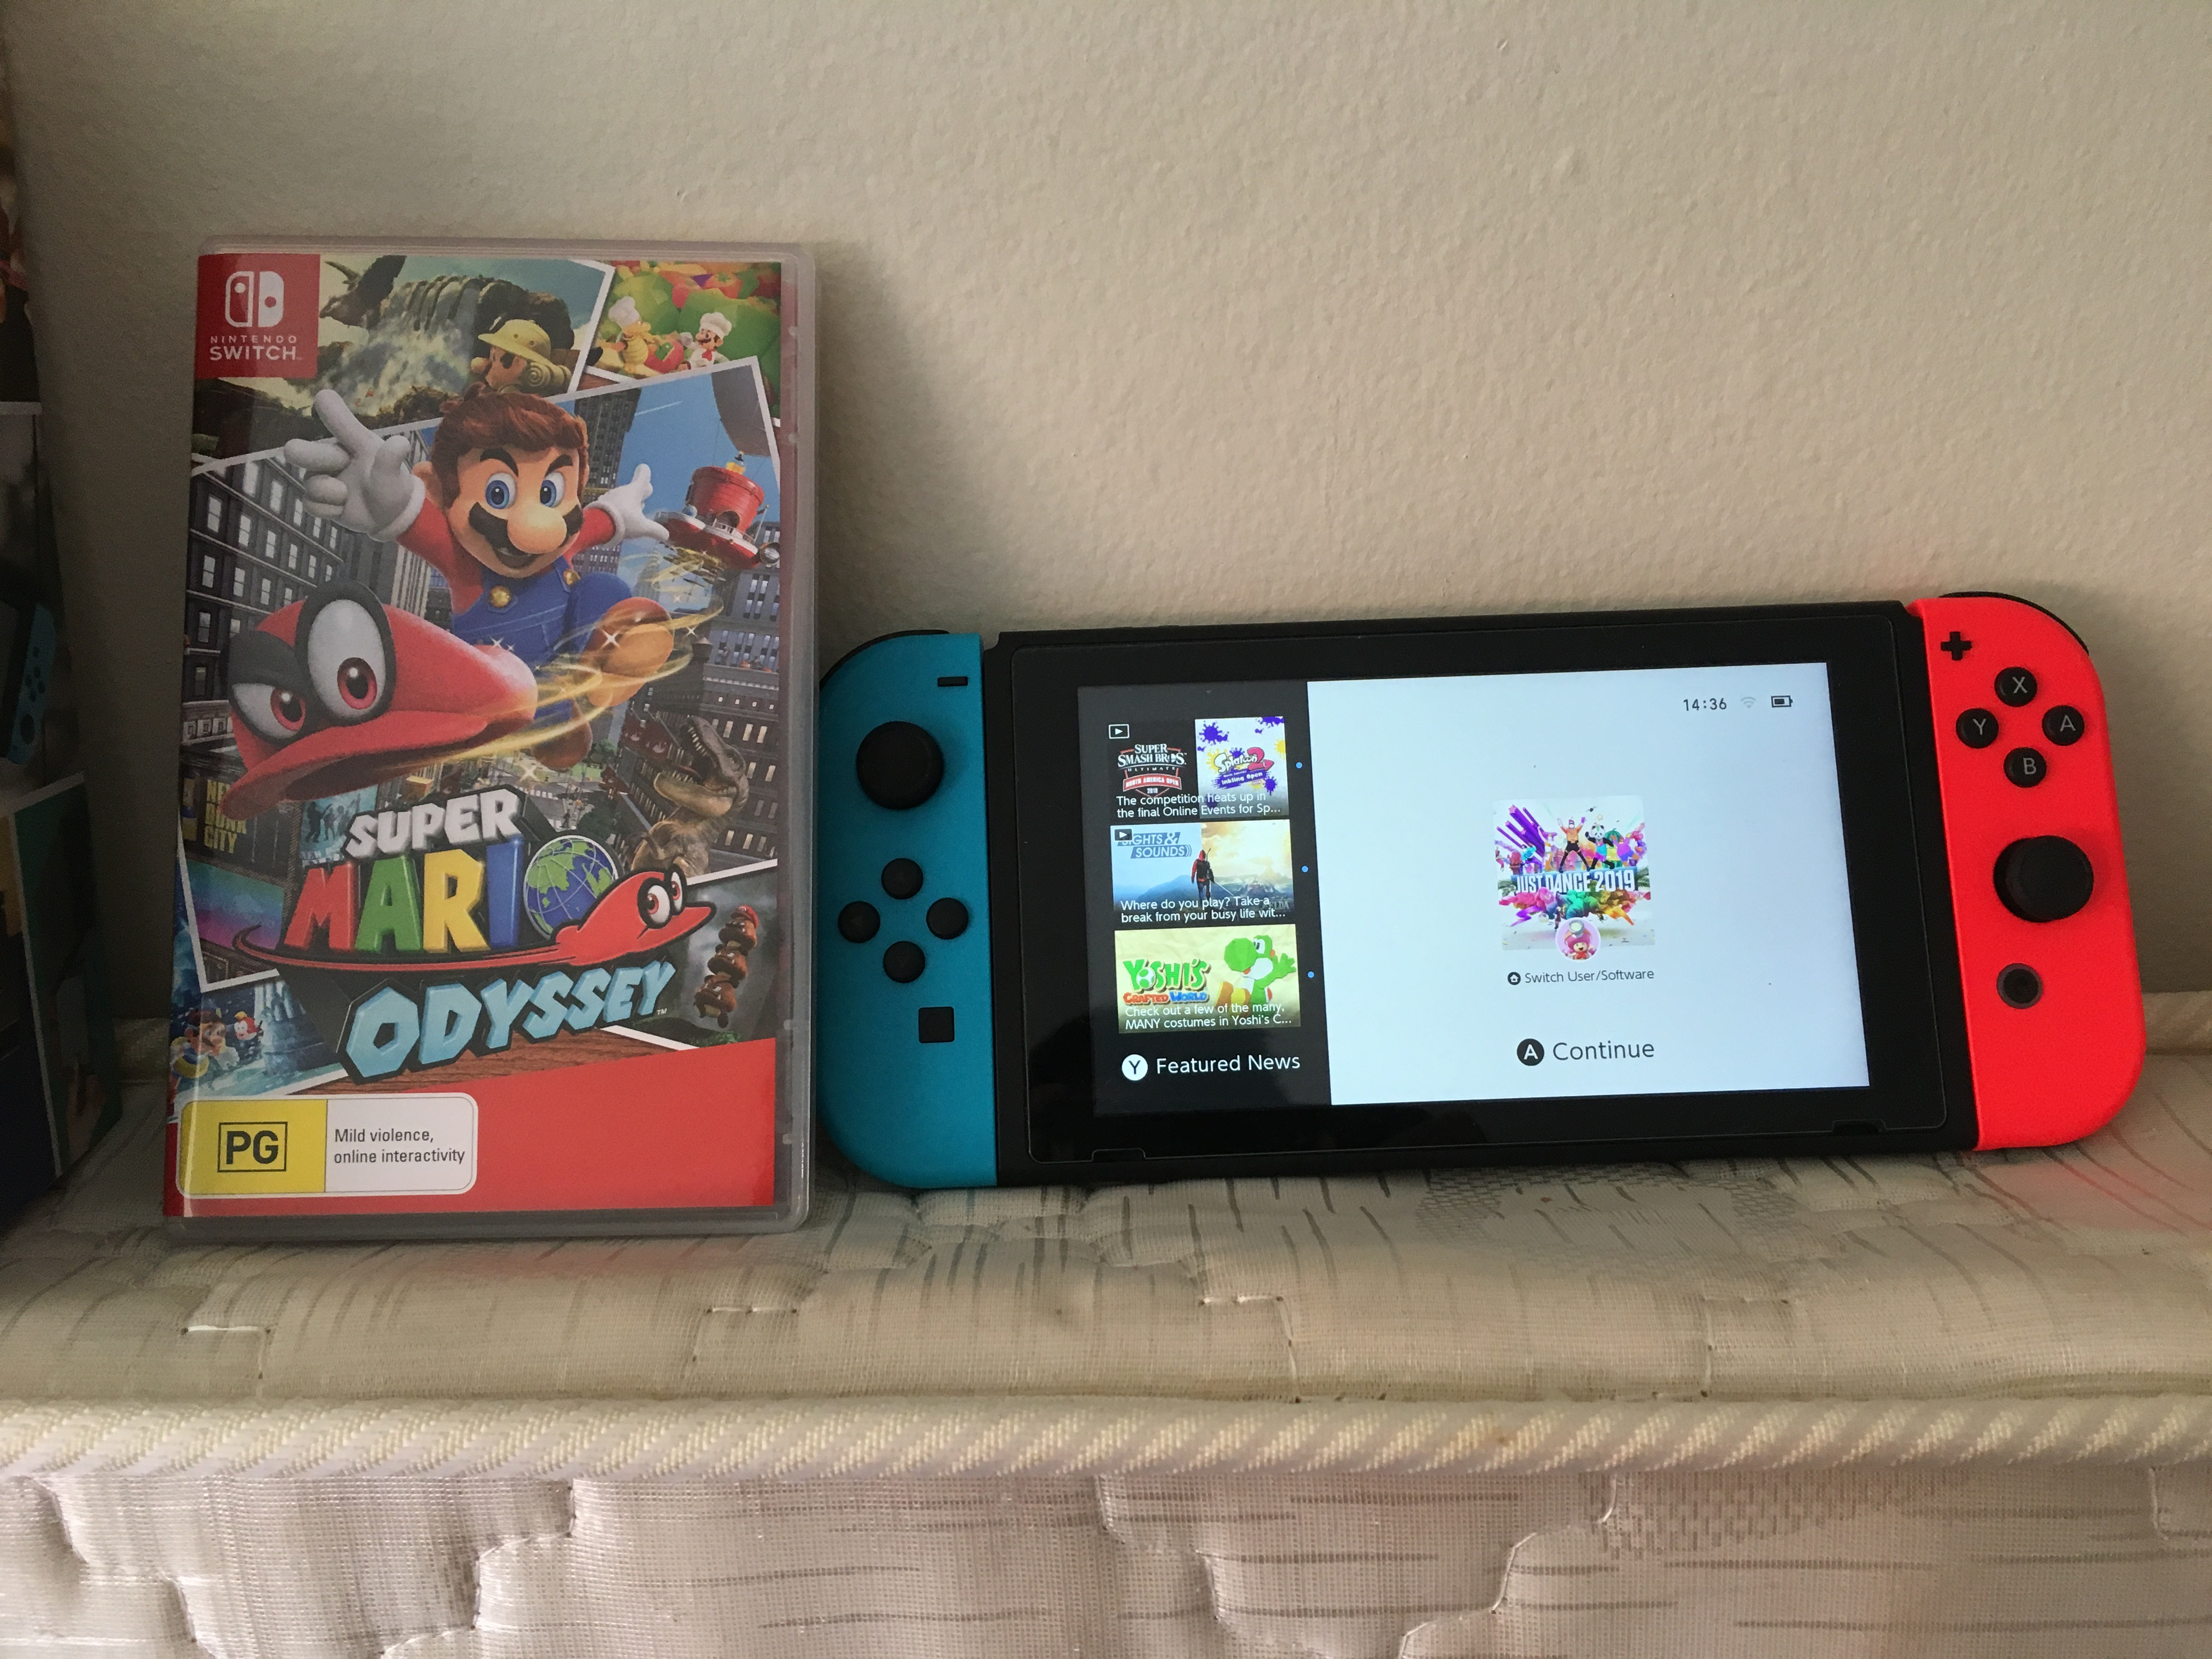NintendoSwitch: (805, 584, 2165, 1223)
